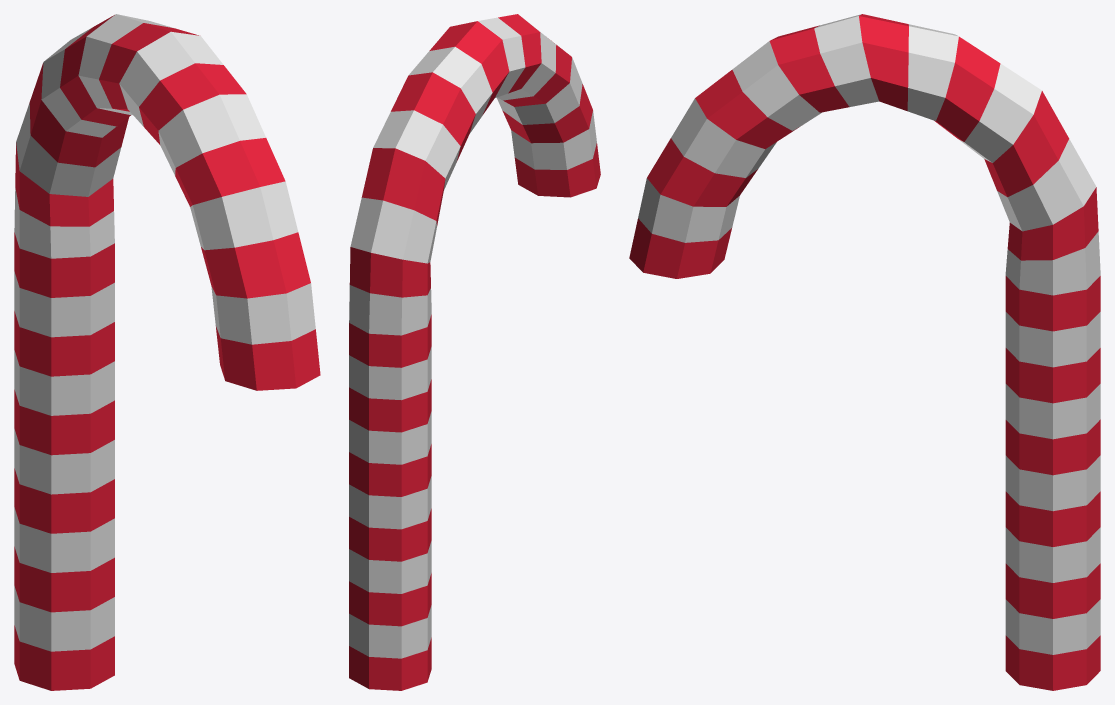
File: Candy.fbx
The picture shows the model from 3 angles, left to right: view 1: azimuth 30°, elevation 25°; view 2: azimuth 150°, elevation 25°; view 3: azimuth 270°, elevation 25°; orthographic projection. The views are drawn at different scales.
Visible parts, largest first — view 1: Cylinder; view 2: Cylinder; view 3: Cylinder.
Part boxes in pixels (x1=…): Cylinder: x1=14, y1=14, x2=320, y2=690; Cylinder: x1=349, y1=14, x2=600, y2=690; Cylinder: x1=629, y1=14, x2=1100, y2=690.
Bounding box in the file's own units: 200 × 1518 × 990.
